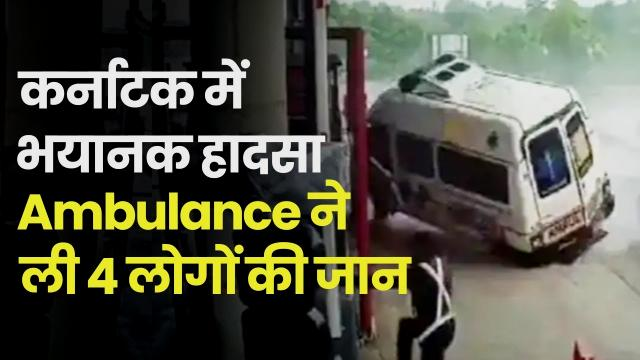ambulance: (367, 52, 615, 260)
